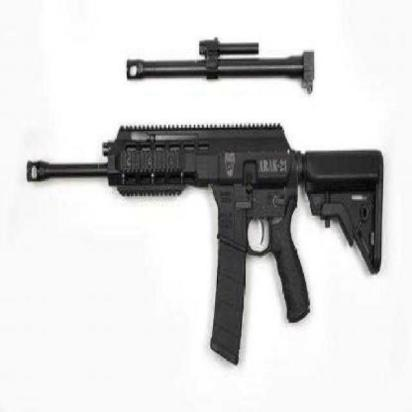Gun: (20, 120, 384, 282)
